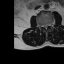CCS_normal: (44, 22, 46, 30)
LFS_normal: (48, 22, 50, 28)
LLS_normal: (46, 22, 48, 28)
RFS_normal: (40, 23, 42, 29)
RLS_normal: (42, 22, 44, 29)
